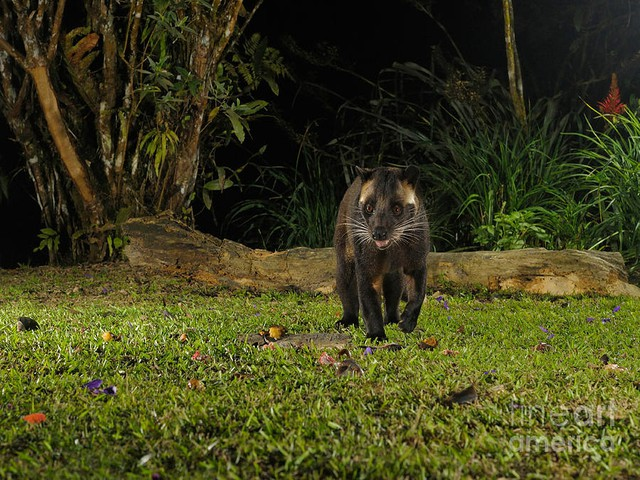civet: (330, 158, 434, 344)
